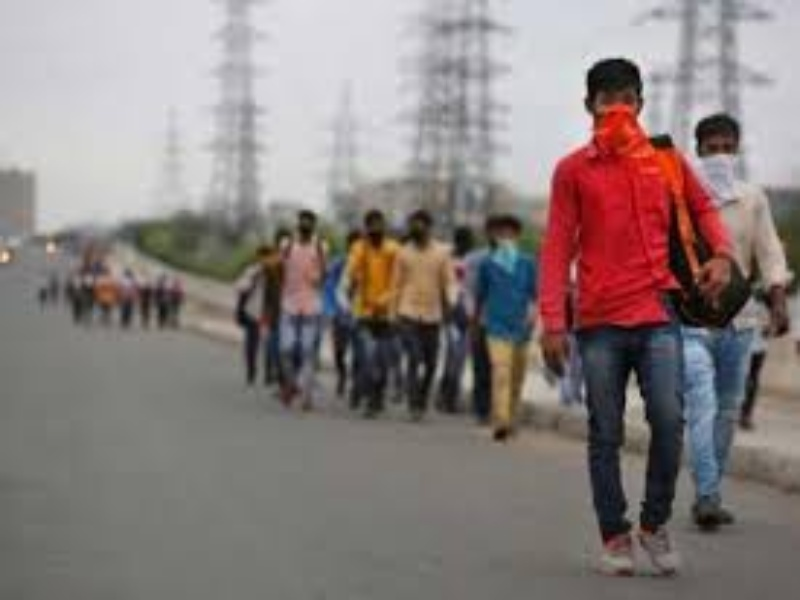person: (109, 7, 475, 567)
